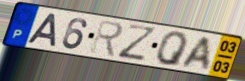6: (62, 17, 89, 51)
A: (179, 35, 212, 72), (25, 13, 58, 49)
Q: (155, 31, 190, 69)
R: (88, 18, 125, 59)
Z: (116, 22, 159, 62)
